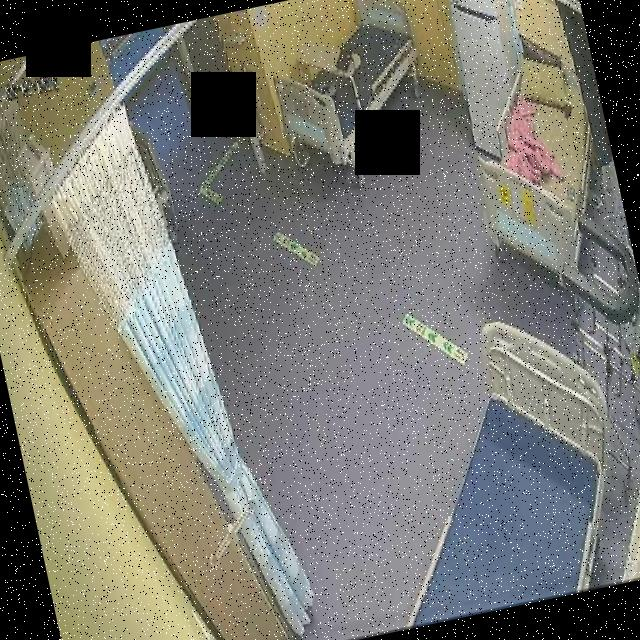bed: (350, 303, 640, 626), (447, 36, 620, 288), (257, 0, 439, 177)
